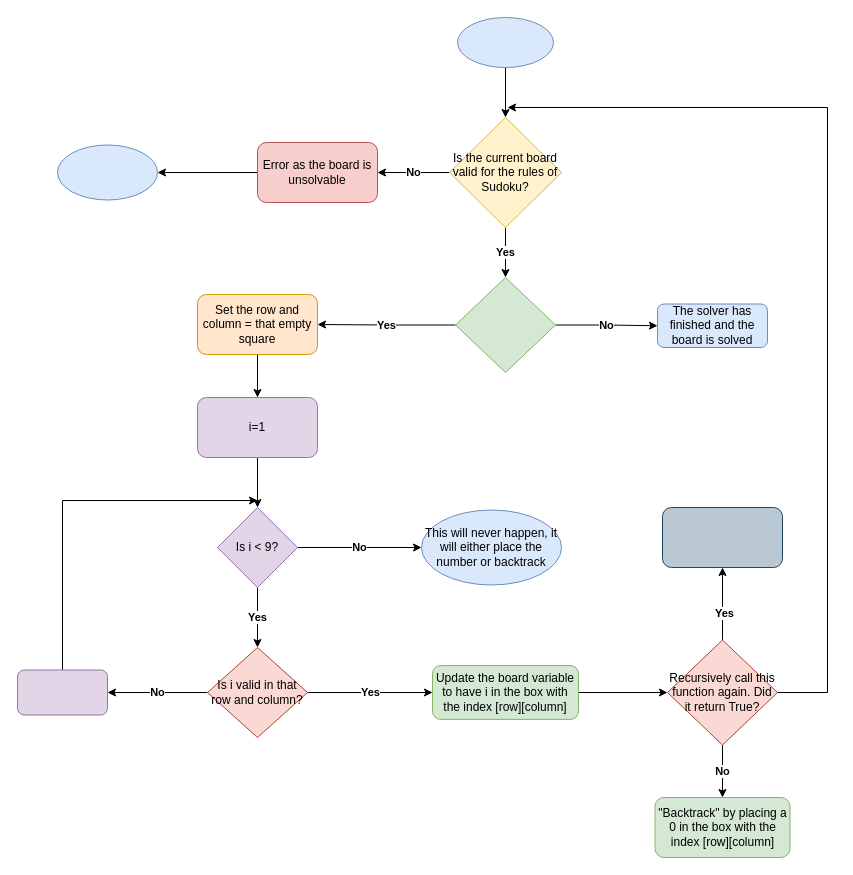
The diagram is 853 pixels wide and 875 high, and some of its shapes have lost their labels. The shapes that lost their labels are listed below. From the top down, each one's box as (x1, y1, x2, y2) in pixels, then its label:
(456, 16, 554, 68): Start
(56, 144, 158, 200): Finish
(454, 276, 556, 372): Can an empty square be found?
(662, 506, 782, 568): Return True
(16, 669, 108, 715): i = i + 1
